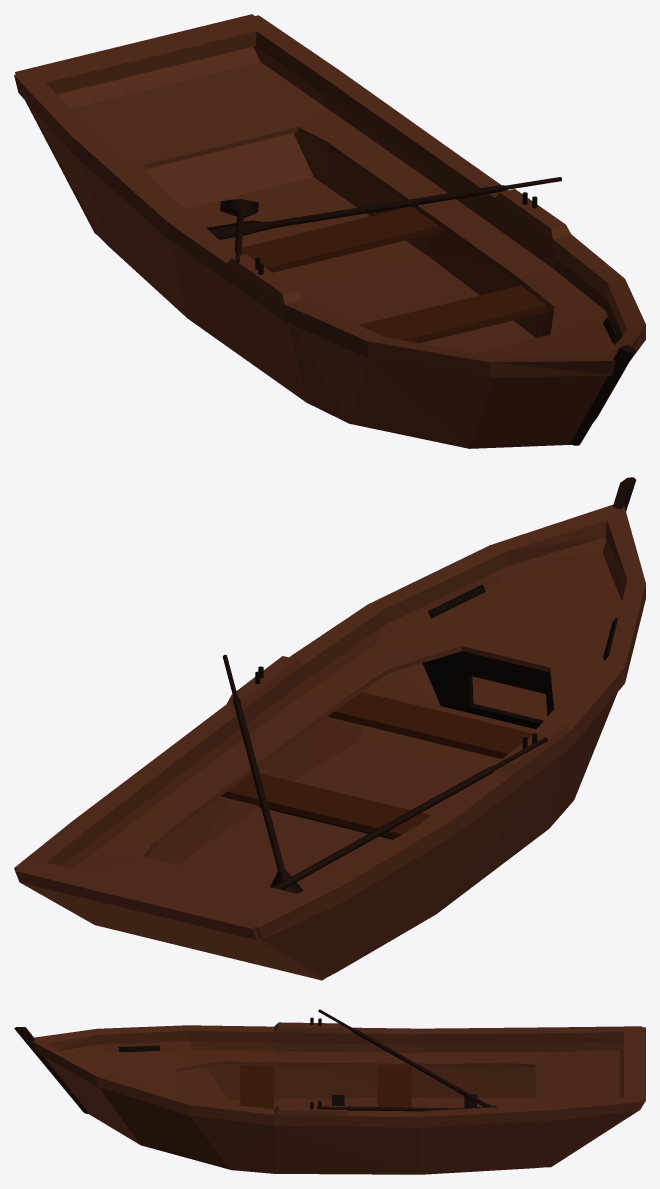
Rendered from Row boat.fbx.
3 renders of one model, top to bottom at view 1: azimuth 30°, elevation 25°; view 2: azimuth 150°, elevation 25°; view 3: azimuth 270°, elevation 25°, orthographic. The views are drawn at different scales.
Visible parts, largest first — view 1: boat, oarL_Cylinder, oarR_Cylinder_002; view 2: boat, oarR_Cylinder_002, oarL_Cylinder; view 3: boat, oarR_Cylinder_002, oarL_Cylinder.
Part boxes in pixels (<box>): boat: <box>14,14,645,448</box>; oarL_Cylinder: <box>206,177,561,239</box>; oarR_Cylinder_002: <box>220,199,258,262</box>; boat: <box>14,477,645,980</box>; oarR_Cylinder_002: <box>270,737,547,889</box>; oarL_Cylinder: <box>222,654,303,893</box>; boat: <box>14,1017,645,1174</box>; oarR_Cylinder_002: <box>318,1009,497,1107</box>; oarL_Cylinder: <box>317,1106,484,1111</box>.
Size of the model in its own units: 14.74 by 7.4 by 39.18.
